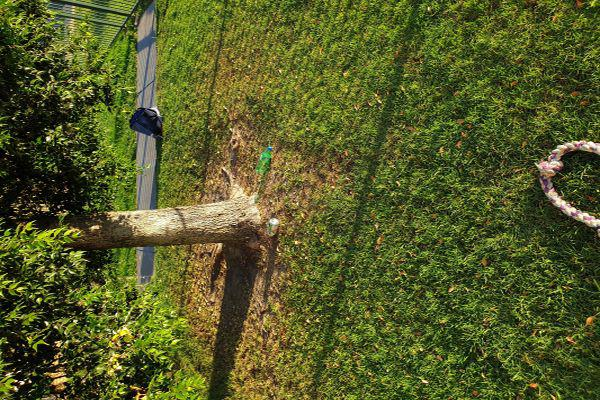Plastic Bottle: (255, 146, 272, 178)
